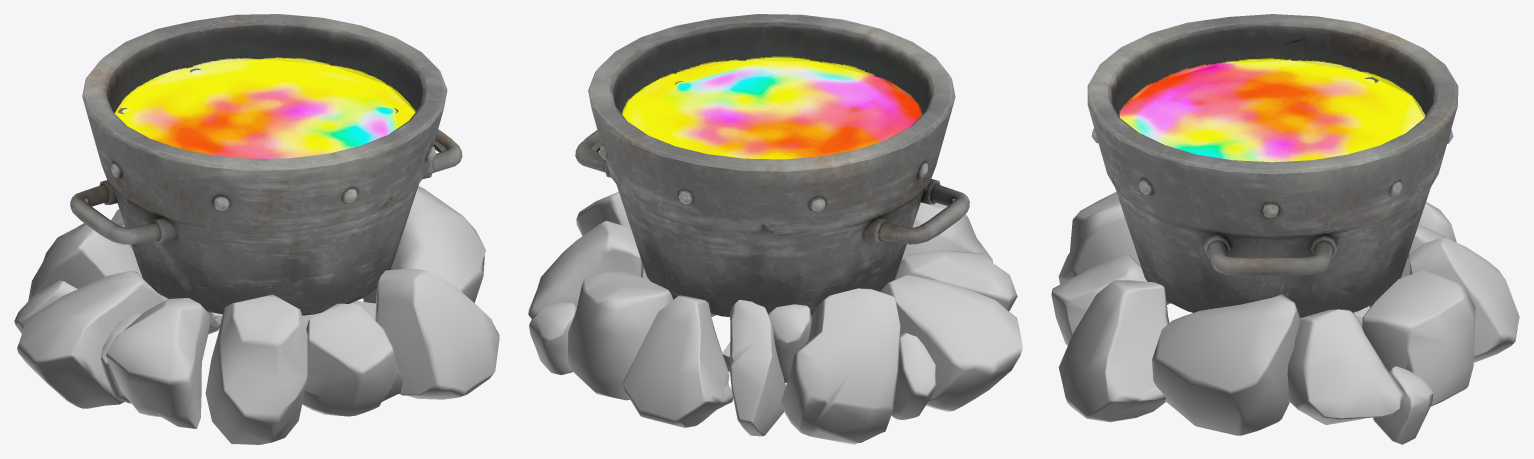
3 views of the same model, side by side, from view 1: azimuth 30°, elevation 25°; view 2: azimuth 150°, elevation 25°; view 3: azimuth 270°, elevation 25° (orthographic). The views are drawn at different scales.
Visible parts, largest first — view 1: SM_Magic_Cooking_Pot_Done_LOD0; view 2: SM_Magic_Cooking_Pot_Done_LOD0; view 3: SM_Magic_Cooking_Pot_Done_LOD0.
Boxes of the visible parts, <box> form: SM_Magic_Cooking_Pot_Done_LOD0: <box>14,14,499,444</box>; SM_Magic_Cooking_Pot_Done_LOD0: <box>528,14,1022,444</box>; SM_Magic_Cooking_Pot_Done_LOD0: <box>1051,14,1519,444</box>.
Bounding box in the file's own units: 0.7838 × 0.4656 × 0.7026.
